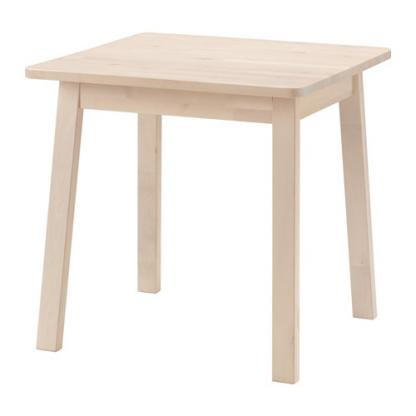Table: (20, 24, 396, 390)
